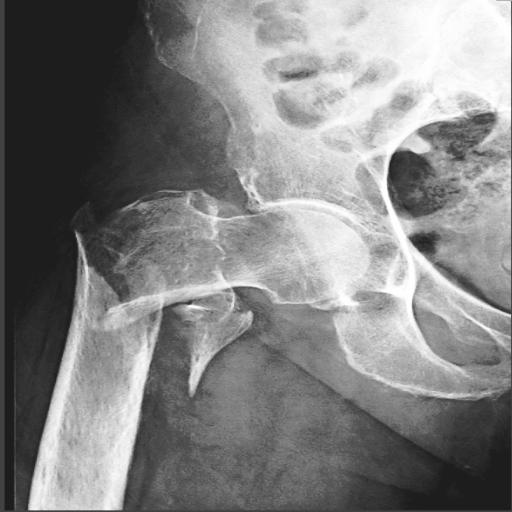intertrochanteric: (100, 188, 370, 333), (34, 202, 162, 473)
lesser-trochanter: (173, 292, 254, 397)
